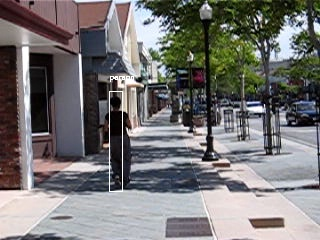person: (104, 97, 135, 191), (103, 97, 134, 191), (105, 97, 136, 191), (104, 96, 135, 190), (104, 98, 135, 192)
target_negative: (67, 27, 228, 192), (65, 20, 317, 41), (220, 166, 242, 229), (70, 53, 219, 61), (260, 218, 302, 231), (38, 112, 64, 133)
